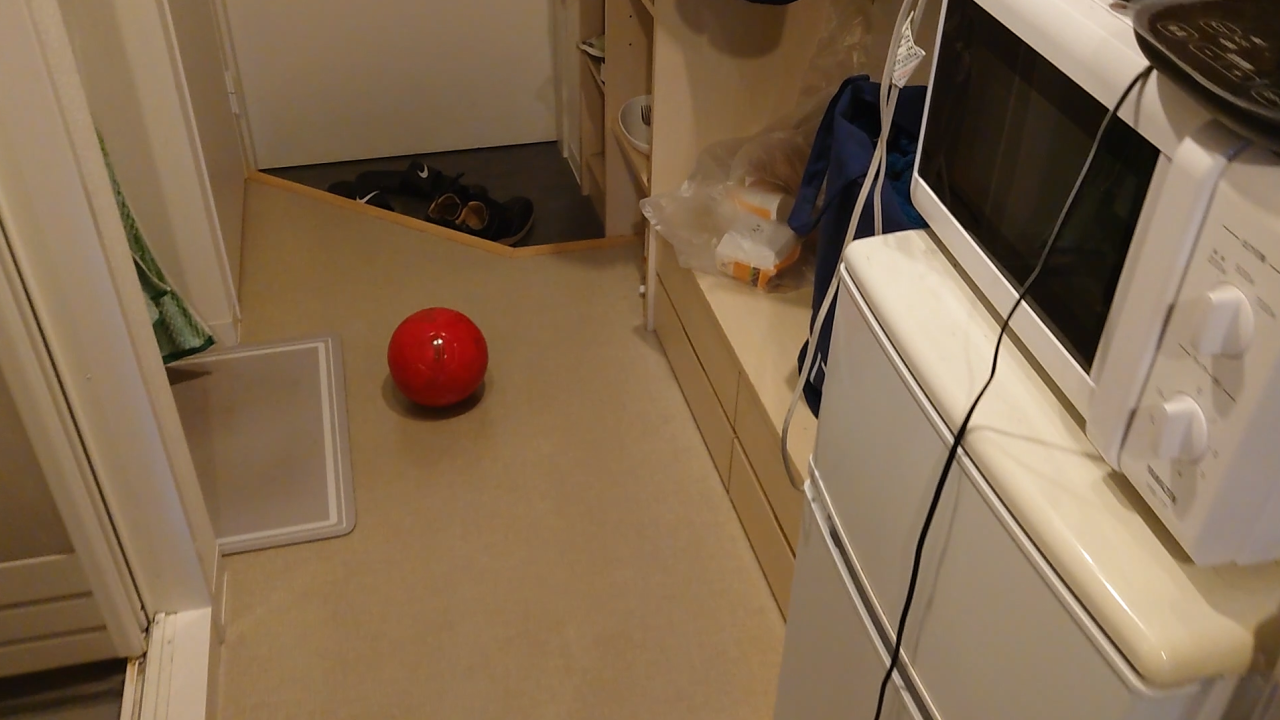red: (384, 307, 489, 409)
